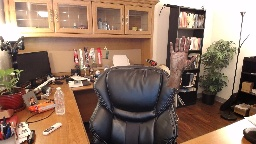Mano_aperta: (167, 35, 198, 72)
